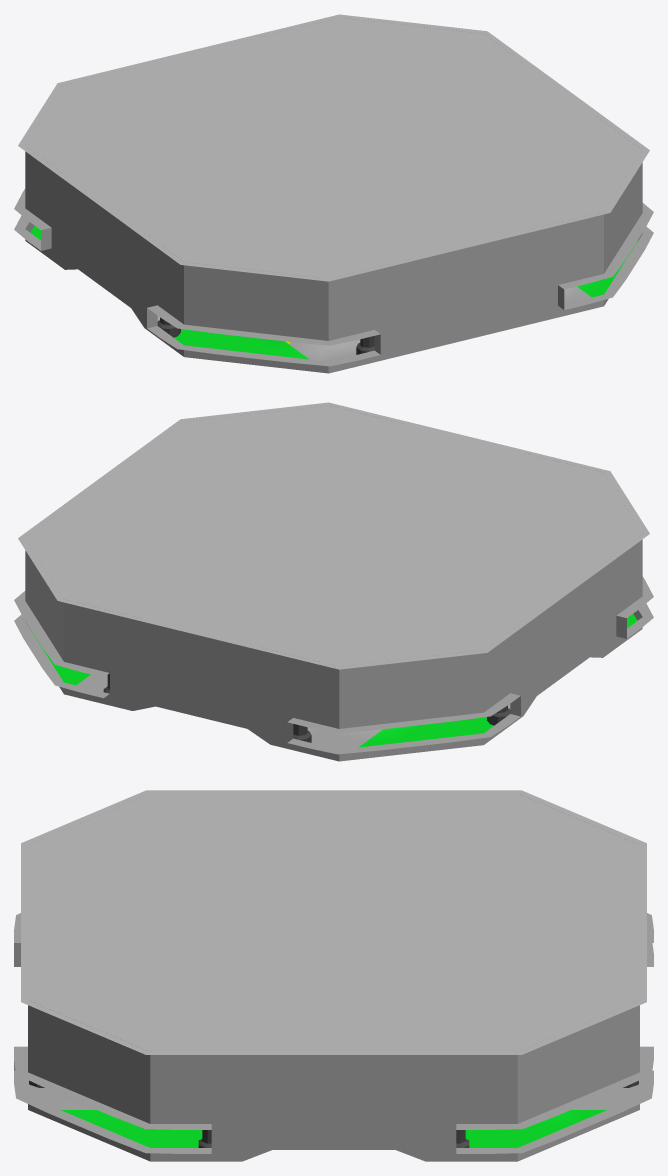
The model's file is Nivel2.fbx.
3 views of the same model, one above another, from view 1: azimuth 30°, elevation 25°; view 2: azimuth 150°, elevation 25°; view 3: azimuth 270°, elevation 25° (orthographic). The views are drawn at different scales.
Parts seen in each view (by area): view 1: pCube18, pCube19, pCube21, pCube20, pCube15, pCube25; view 2: pCube18, pCube23, pCube21, pCube22, pCube15, pCube24; view 3: pCube18, pCube17, pCube24, pCube25, pCube15, pCube19, pCube23.
Boxes of the visible parts, x1,y1,x2,y2 form: pCube18: (18,14,649,281); pCube19: (328,214,612,373); pCube21: (14,151,183,356); pCube20: (177,264,329,373); pCube15: (30,226,637,361); pCube25: (604,162,653,305); pCube18: (18,402,649,669); pCube23: (55,602,339,761); pCube21: (484,539,653,744); pCube22: (338,652,490,761); pCube15: (30,614,637,749); pCube24: (14,550,63,693); pCube18: (21,790,646,1054); pCube17: (146,1055,521,1161); pCube24: (517,1005,651,1161); pCube25: (16,1005,150,1161); pCube15: (28,1080,639,1147); pCube19: (14,915,27,1098); pCube23: (640,915,653,1098).
Size of the model in its own units: 68 by 12.88 by 68.
